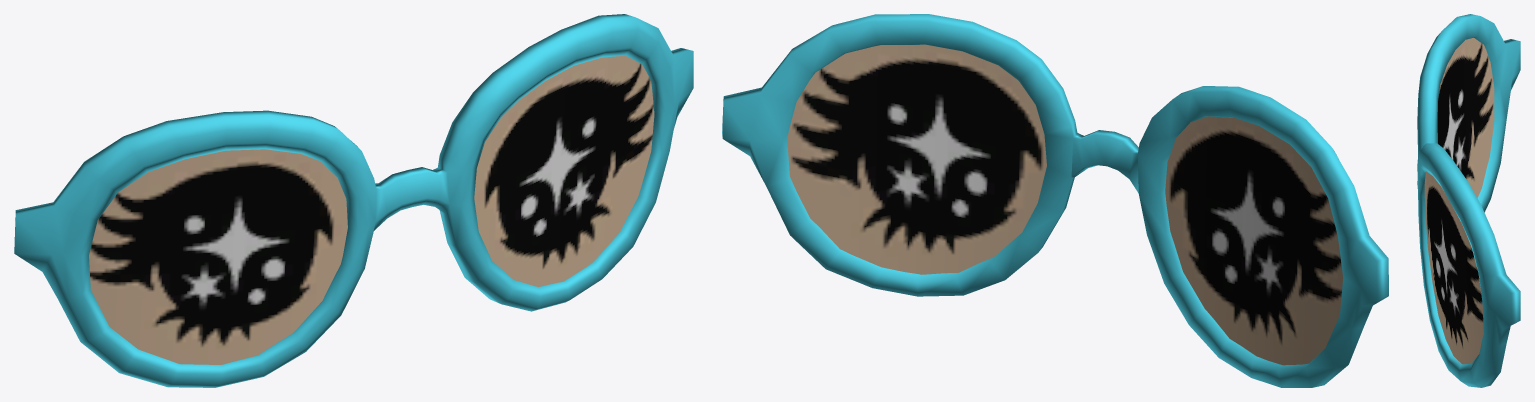
The model's file is AccessoryGlassEyes2.glb.
3 renders of one model, left to right at view 1: azimuth 30°, elevation 25°; view 2: azimuth 150°, elevation 25°; view 3: azimuth 270°, elevation 25°, orthographic. The views are drawn at different scales.
Visible parts, largest first — view 1: Accessory__mAccessory; view 2: Accessory__mAccessory; view 3: Accessory__mAccessory.
Part boxes in pixels (x1=…): Accessory__mAccessory: x1=14, y1=14, x2=693, y2=387; Accessory__mAccessory: x1=722, y1=14, x2=1388, y2=387; Accessory__mAccessory: x1=1417, y1=14, x2=1520, y2=387.
Size of the model in its own units: 6.38 by 2.48 by 1.09.
1 material, 1 textured.
